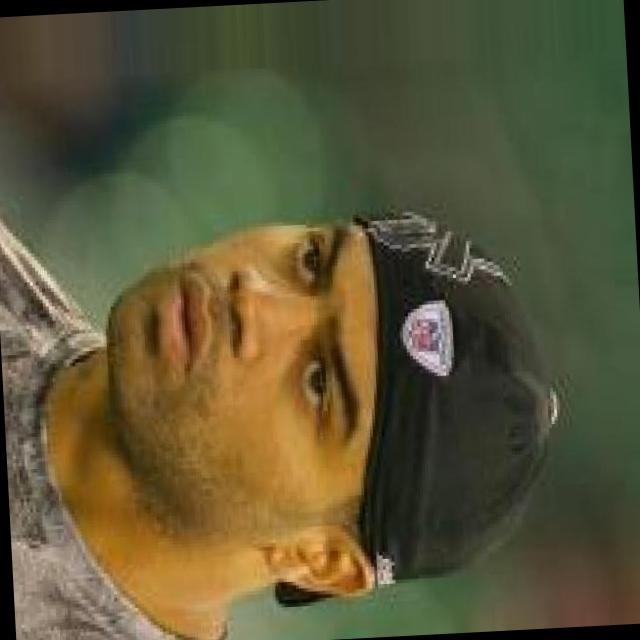bareface: (106, 189, 592, 622)
